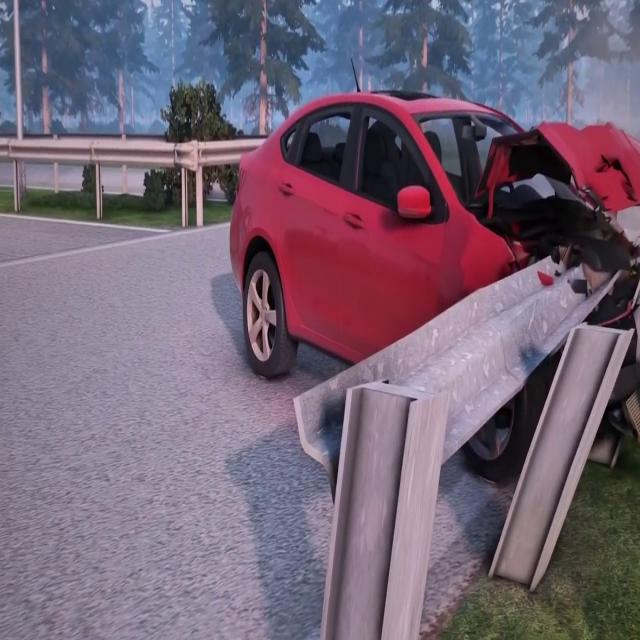accident: (220, 84, 632, 498)
